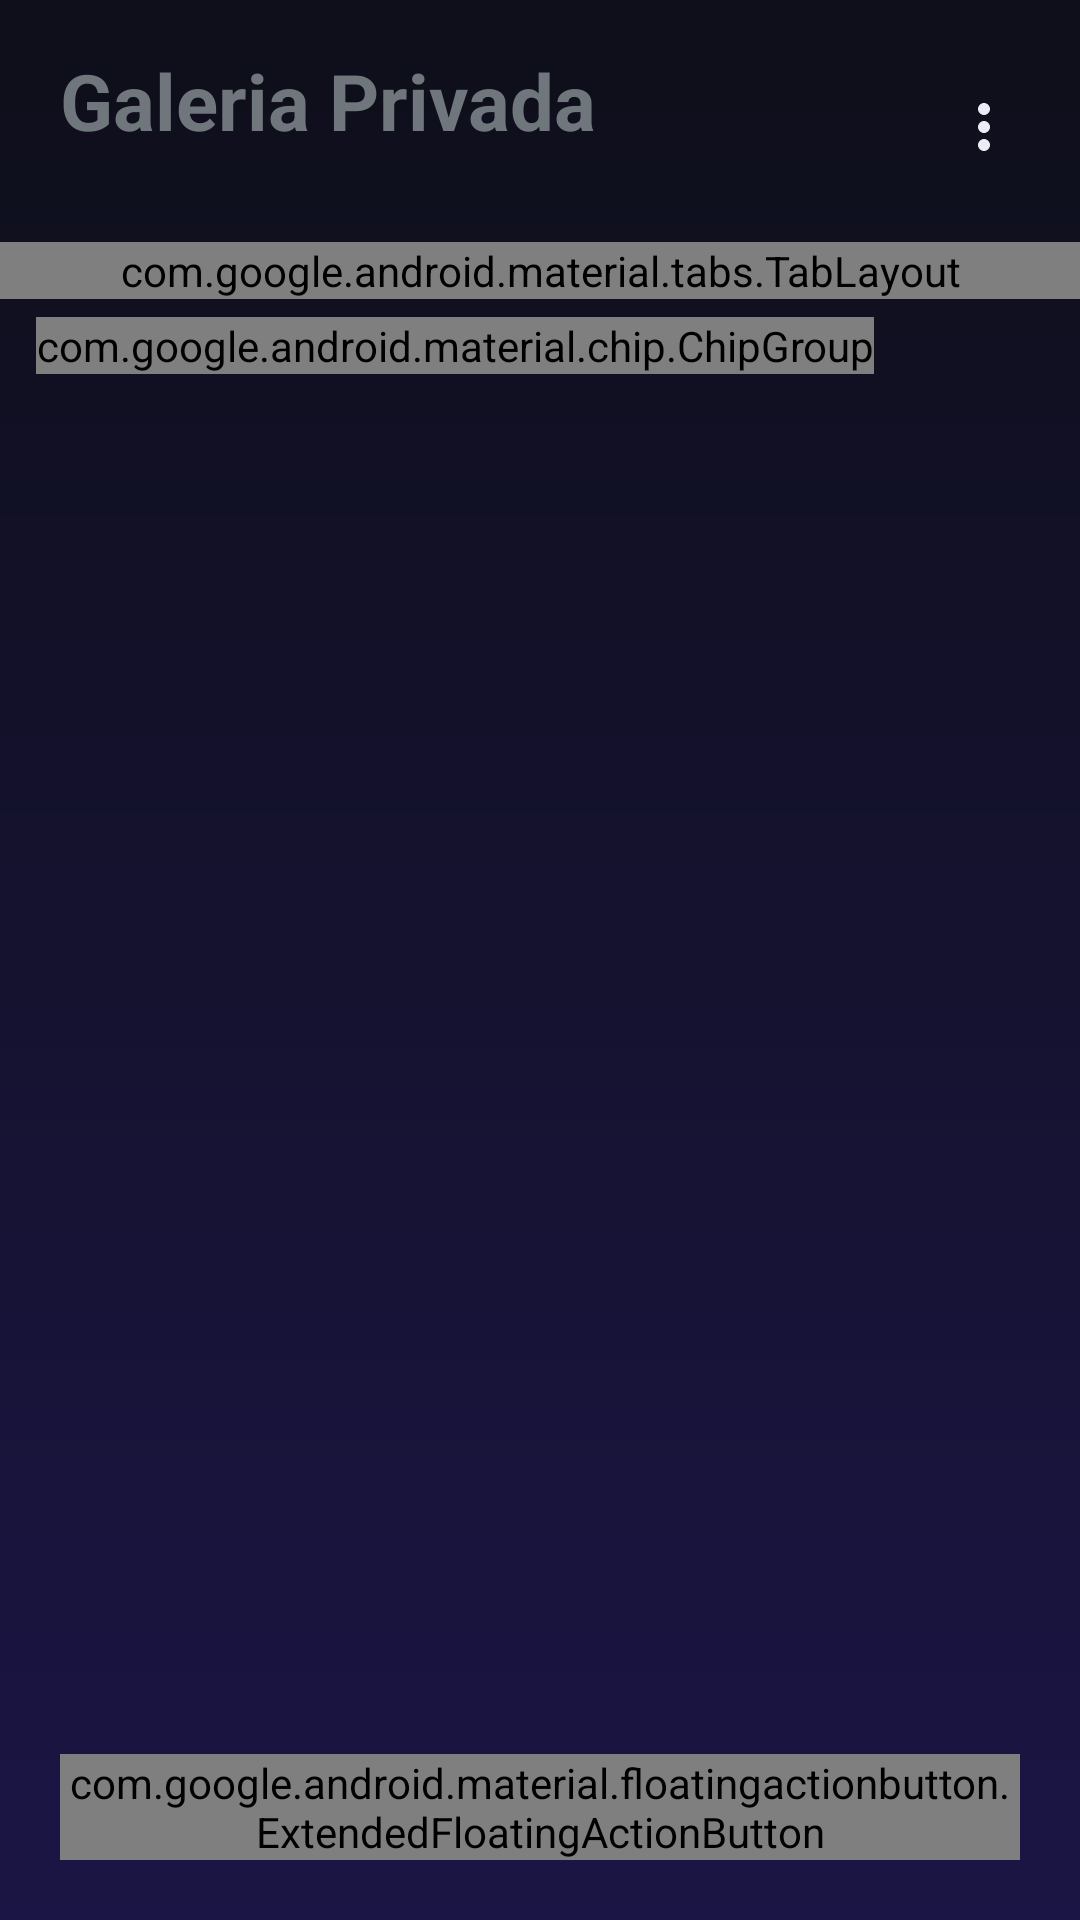

Locate icon controls on the screen. Image size 1080*1920, boxes as box(x1, y1, x2, y2).
more: box(978, 103, 990, 151)
